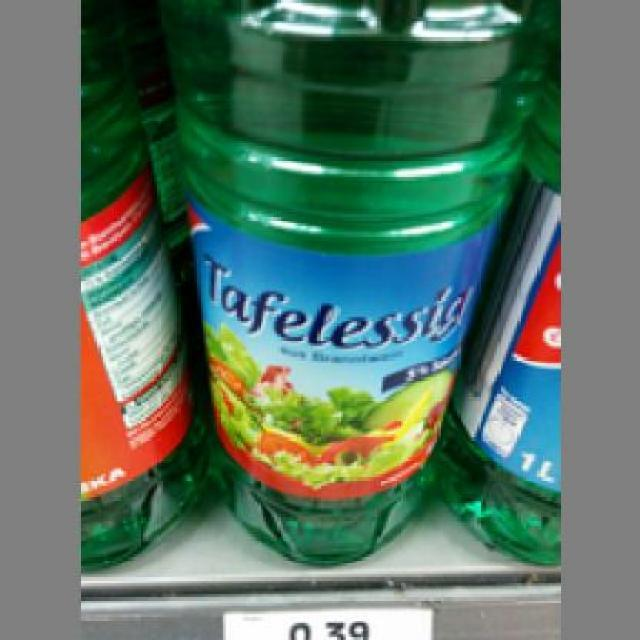Vinegar: (162, 0, 535, 569)
